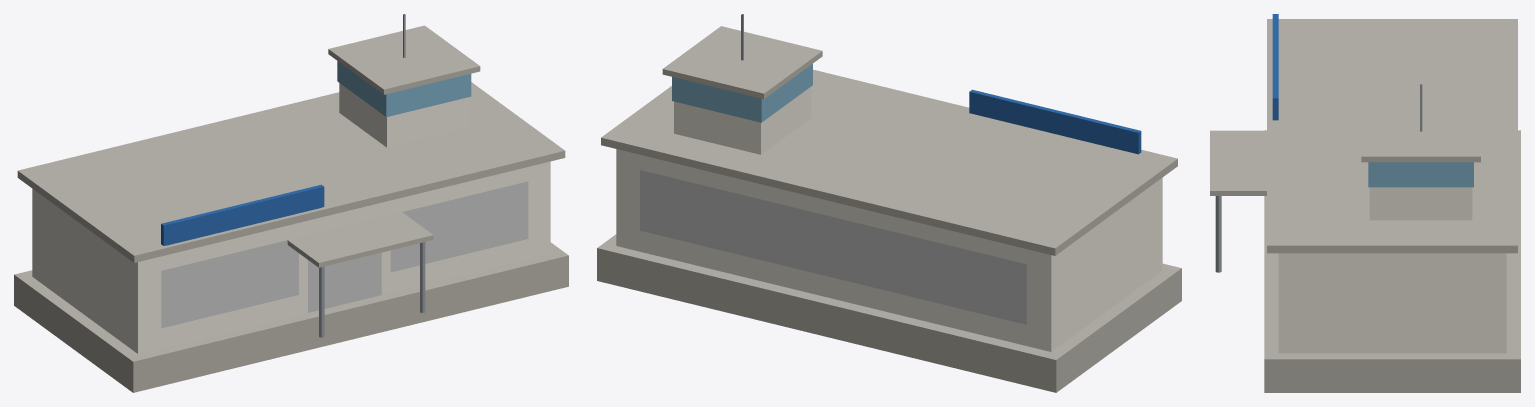
The model's file is terminal.glb.
The picture shows the model from 3 angles, left to right: view 1: azimuth 30°, elevation 25°; view 2: azimuth 150°, elevation 25°; view 3: azimuth 270°, elevation 25°; orthographic projection. The views are drawn at different scales.
Parts seen in each view (by area): view 1: terminal; view 2: terminal; view 3: terminal.
Boxes of the visible parts, left/top/right/bottom form: terminal: left=14, top=14, right=568, bottom=392; terminal: left=597, top=14, right=1181, bottom=392; terminal: left=1210, top=14, right=1520, bottom=392.
Size of the model in its own units: 19 by 10.05 by 10.9.
